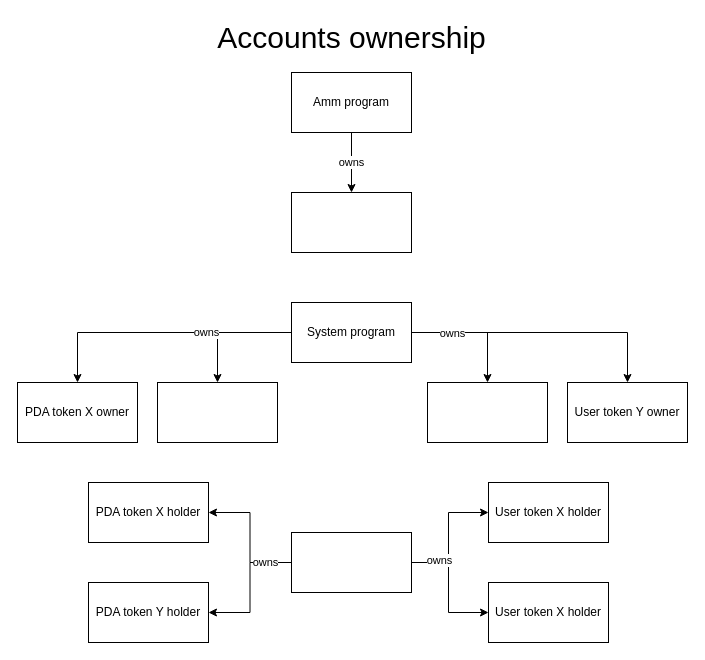
Image size: 705x660. Some labels were removed from this diagram. The centre of each missing label's shape, as x and y in pixels:
"PDA token Y owner" goes at point 217,412.
"SPL token program" goes at point 351,562.
"User token X owner" goes at point 487,412.
"Vault" goes at point 351,222.
